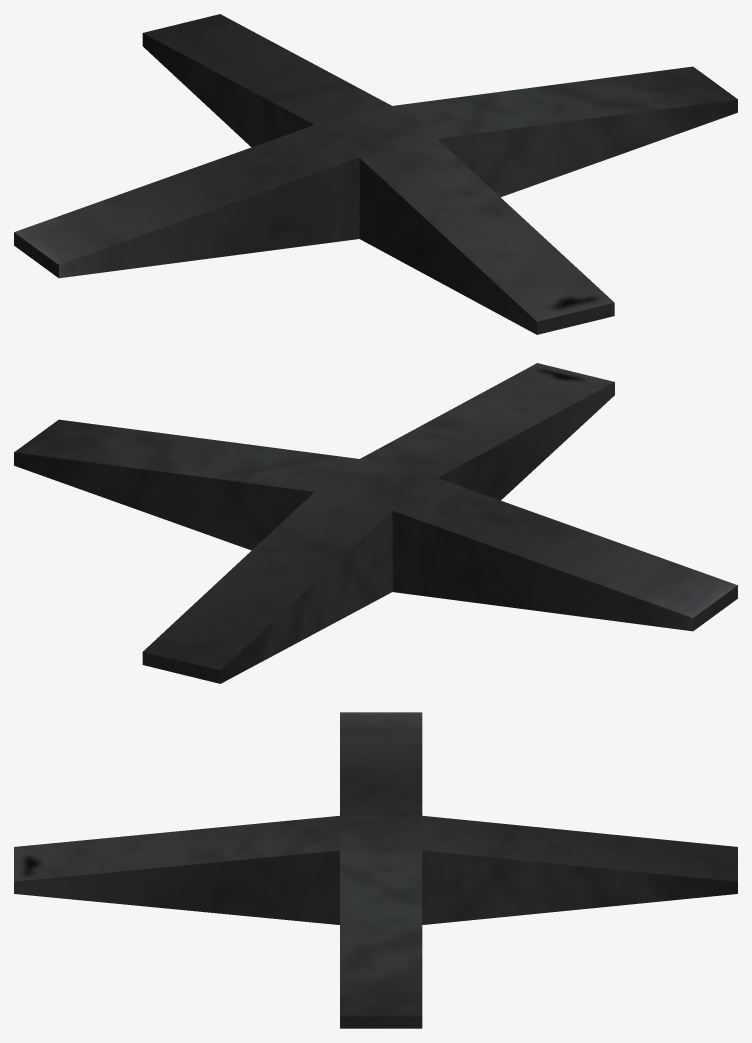
Rendered from rotor.obj.
3 renders of one model, top to bottom at view 1: azimuth 30°, elevation 25°; view 2: azimuth 150°, elevation 25°; view 3: azimuth 270°, elevation 25°, orthographic. The views are drawn at different scales.
Parts seen in each view (by area): view 1: Cube; view 2: Cube; view 3: Cube.
Part boxes in pixels (x1,y1,x2,y2): Cube: [14, 14, 737, 334]; Cube: [14, 363, 737, 683]; Cube: [14, 712, 737, 1028].
Bounding box in the file's own units: 4.01 × 0.4585 × 4.03.
1 material, 1 textured.
